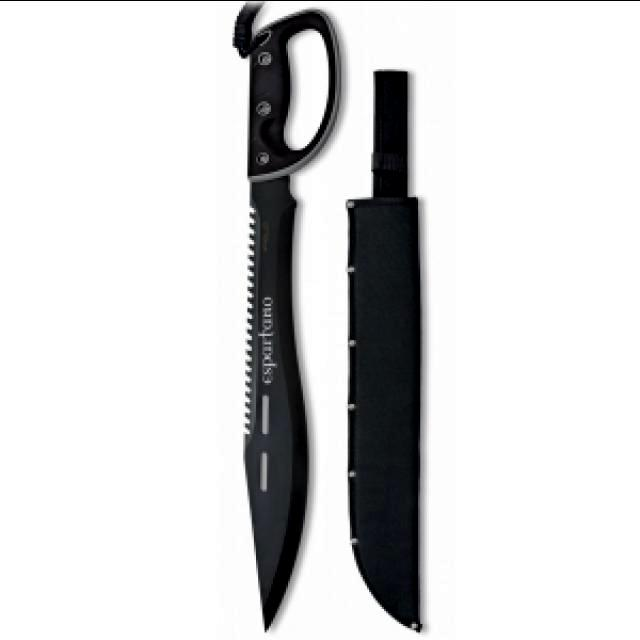long knife: (240, 18, 442, 622)
